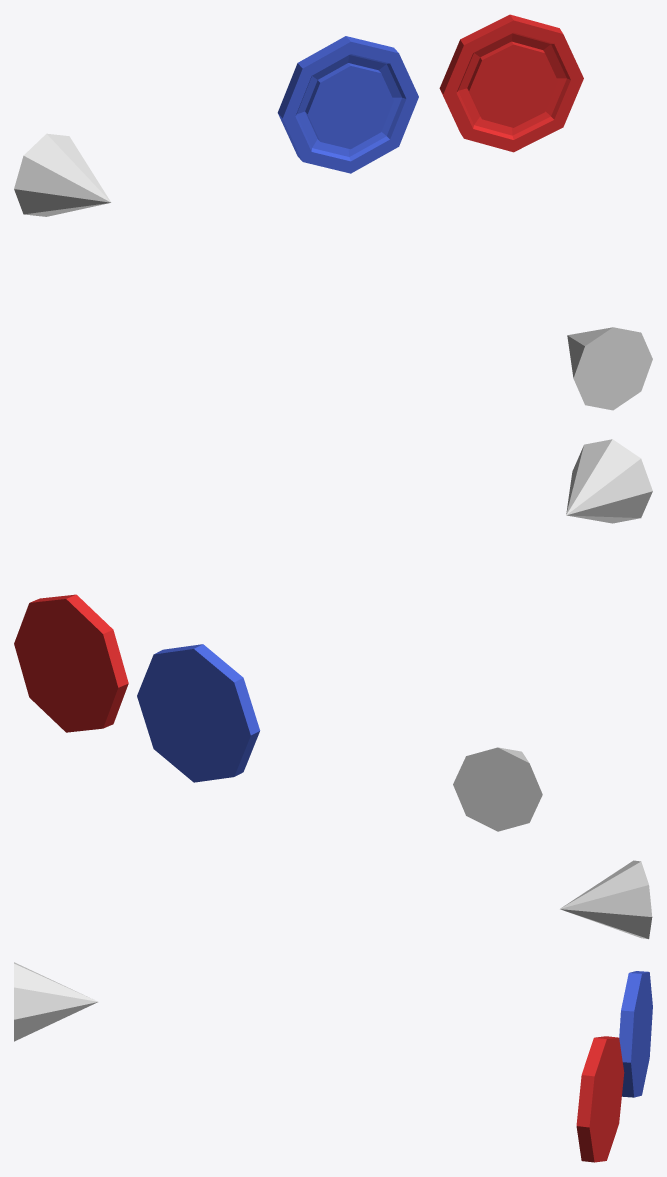
File: demo-actions-and-ui.glb
3 renders of one model, top to bottom at view 1: azimuth 30°, elevation 25°; view 2: azimuth 150°, elevation 25°; view 3: azimuth 270°, elevation 25°, orthographic. The views are drawn at different scales.
Visible parts, largest first — view 1: Cylinder, Cylinder.001, Cone.001, Cone.002; view 2: Cylinder.001, Cylinder, Cone.001, Cone.002; view 3: Cylinder, Cone.002, Cylinder.001, Cone.001.
Boxes of the visible parts, left/top/right/bottom form: Cylinder: left=439, top=14, right=583, bottom=152; Cylinder.001: left=277, top=36, right=418, bottom=173; Cone.001: left=567, top=327, right=652, bottom=410; Cone.002: left=14, top=133, right=111, bottom=216; Cylinder.001: left=137, top=644, right=260, bottom=782; Cylinder: left=14, top=594, right=128, bottom=732; Cone.001: left=566, top=439, right=652, bottom=523; Cone.002: left=453, top=747, right=542, bottom=831; Cylinder: left=576, top=1036, right=624, bottom=1162; Cone.002: left=560, top=860, right=652, bottom=939; Cylinder.001: left=619, top=971, right=652, bottom=1097; Cone.001: left=14, top=962, right=98, bottom=1041.
Size of the model in its own units: 5.03 by 1.17 by 5.54.
